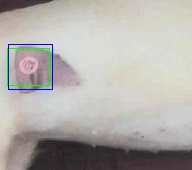text: (7, 48, 49, 85)
